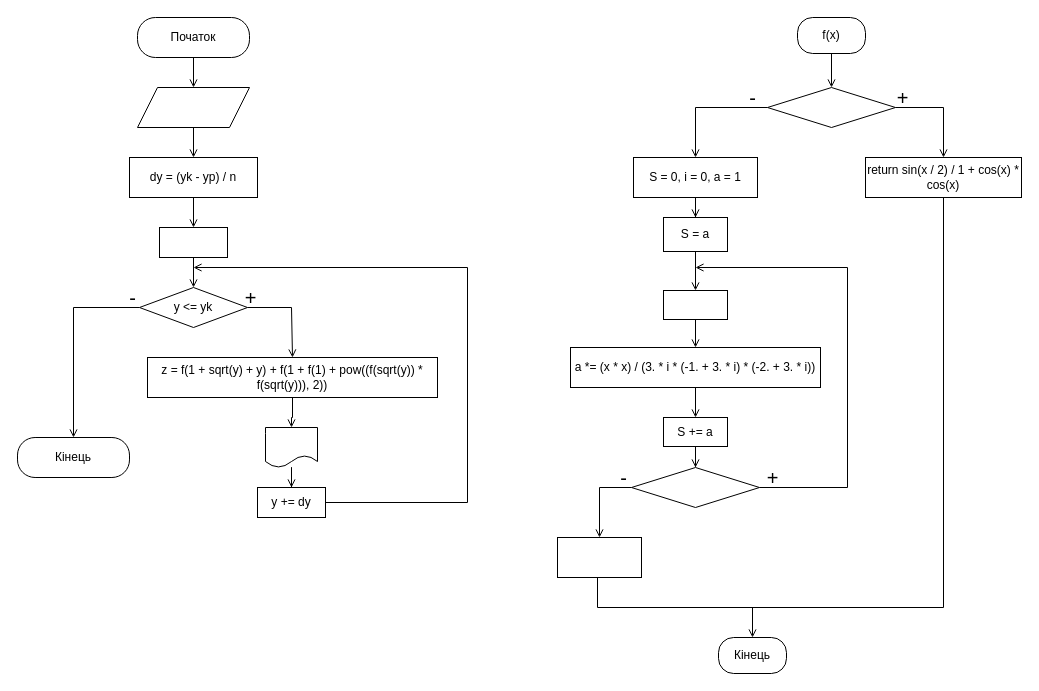
Image size: 1039x691. Some labels were removed from this diagram. The shapes that lost their labels are listed below. From the top down, each one's centre as x and y in pixels, then its label:
At [193,107]: "yp, yk, n".
At [831,107]: "abs(x) >= 1".
At [193,242]: "y = yp".
At [695,305]: "i++".
At [291,447]: "y, z".
At [695,487]: "i < 6".
At [599,557]: "return S".
